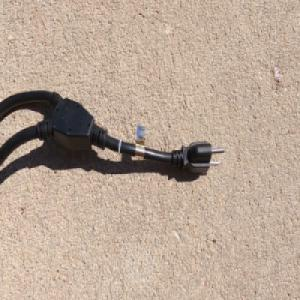Wire: (0, 87, 227, 185)
